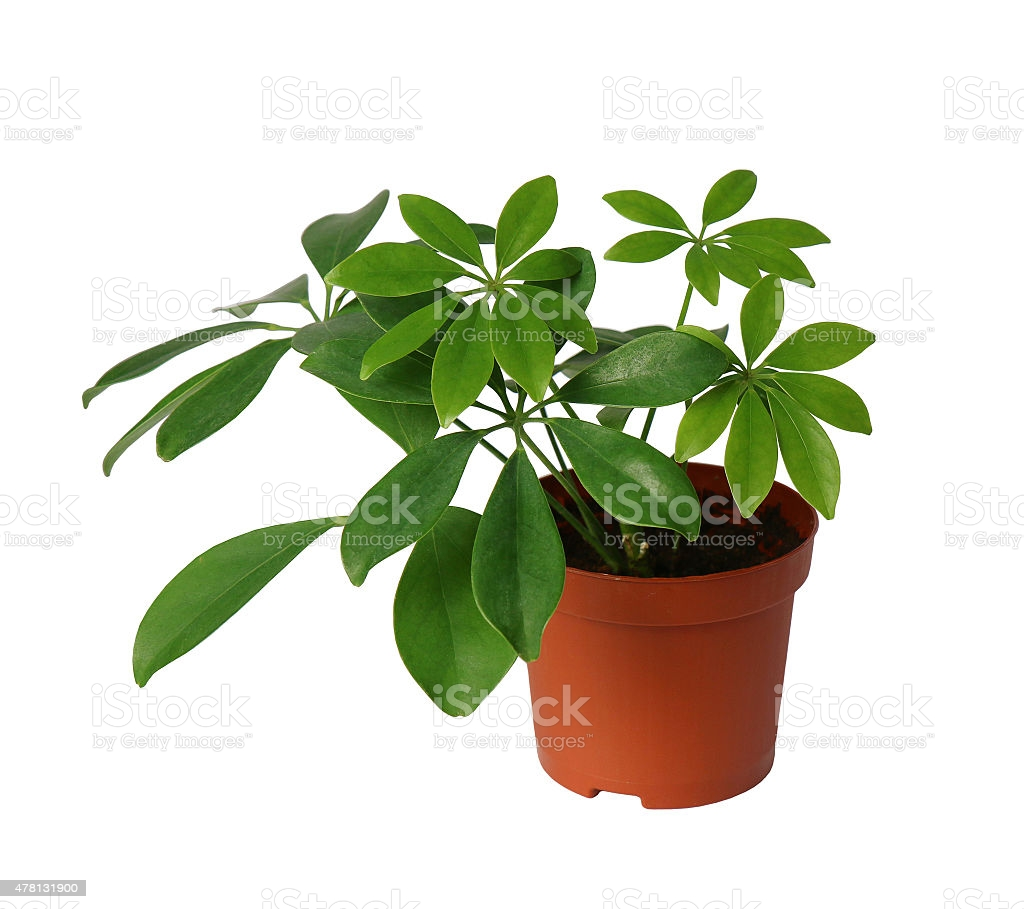tanaman: (118, 168, 871, 832)
